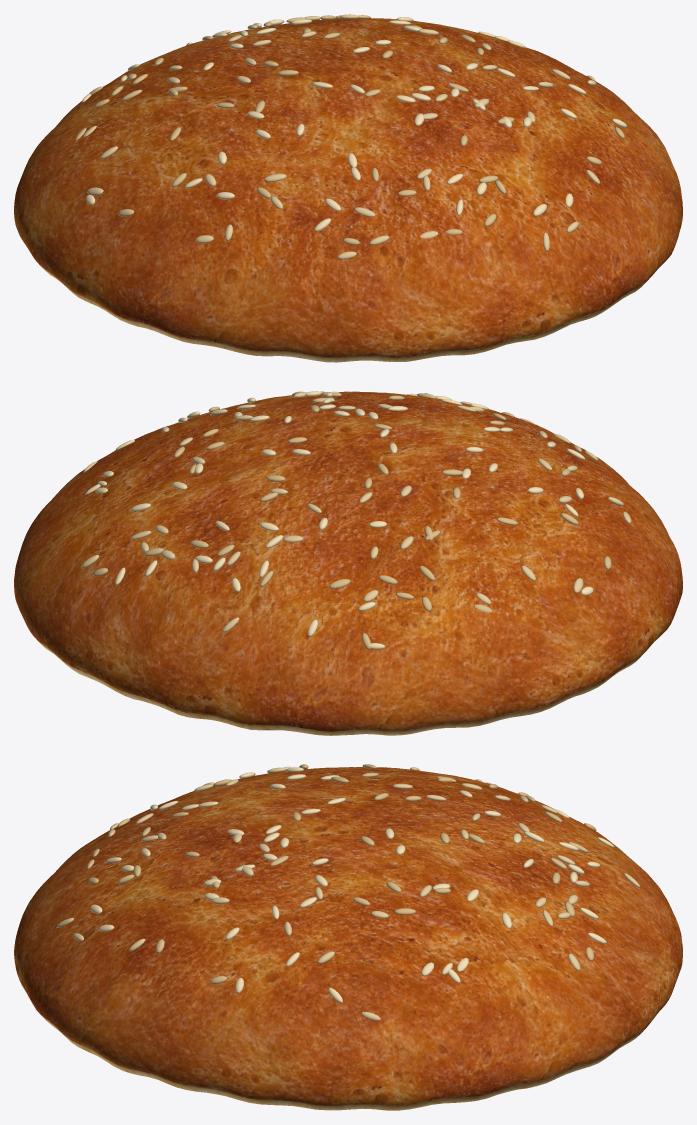
File: bun-top.glb
The picture shows the model from 3 angles, top to bottom: view 1: azimuth 30°, elevation 25°; view 2: azimuth 150°, elevation 25°; view 3: azimuth 270°, elevation 25°; orthographic projection.
Parts seen in each view (by area): view 1: Upper bun, Sesame seeds; view 2: Upper bun, Sesame seeds; view 3: Upper bun, Sesame seeds.
Part boxes in pixels (bbox=[...]): Upper bun: bbox=[14, 18, 682, 362]; Sesame seeds: bbox=[75, 14, 627, 259]; Upper bun: bbox=[14, 391, 682, 735]; Sesame seeds: bbox=[81, 391, 631, 649]; Upper bun: bbox=[14, 767, 682, 1110]; Sesame seeds: bbox=[56, 764, 640, 1020].
Size of the model in its own units: 2.44 by 0.644 by 2.44.
Materials: 4 (1 with a texture image).
